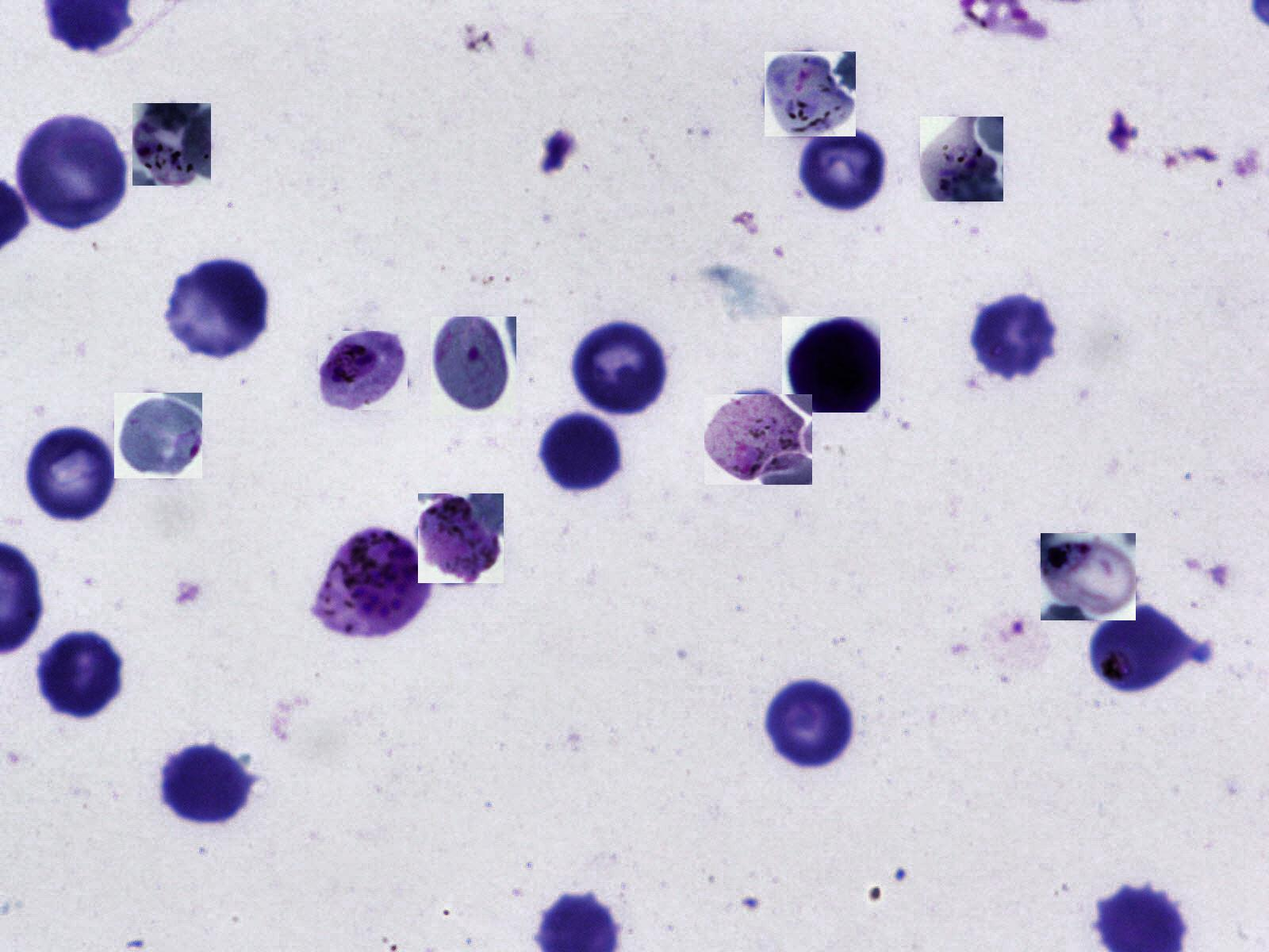Infected: (310, 527, 435, 639), (704, 394, 812, 485), (782, 317, 880, 413), (431, 317, 516, 415), (1041, 533, 1136, 620), (418, 493, 504, 583), (765, 52, 856, 136), (114, 393, 202, 478), (318, 331, 408, 410), (920, 117, 1003, 202), (132, 103, 211, 186)
Uninfected: (17, 116, 127, 230), (160, 260, 269, 366), (22, 424, 118, 528), (1089, 607, 1193, 694), (765, 677, 856, 770), (577, 318, 669, 408), (797, 125, 891, 212), (159, 741, 253, 827), (37, 631, 125, 719), (970, 294, 1051, 385), (540, 413, 627, 493)
